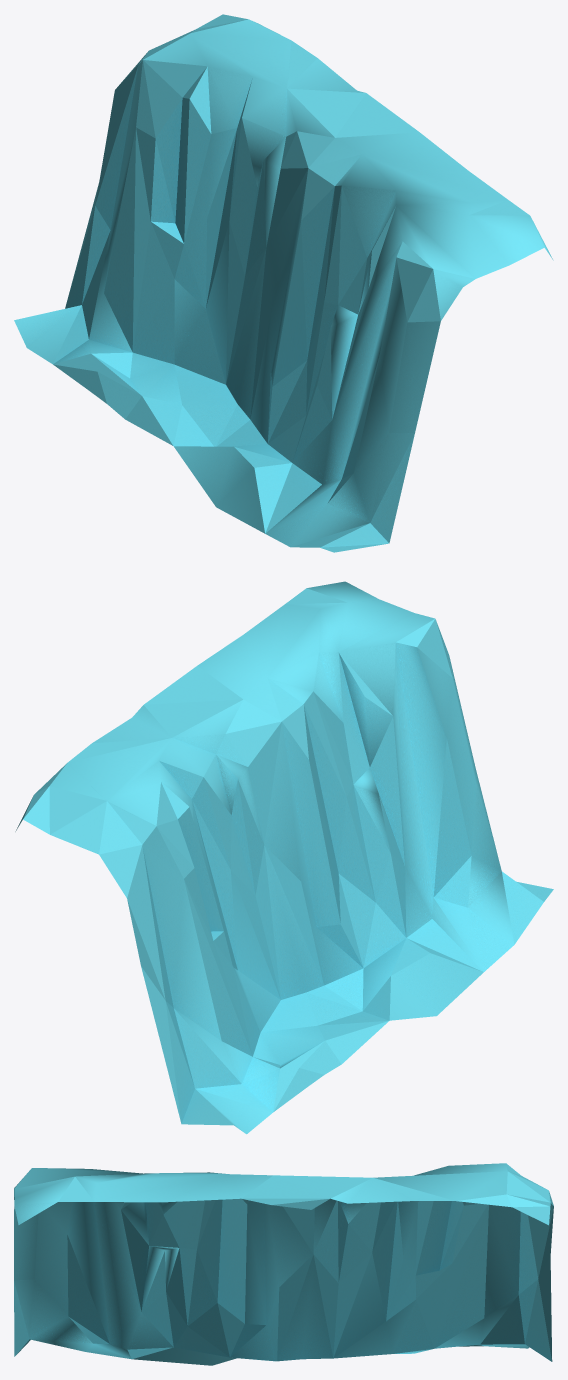
The model's file is Cliff_1.glb.
3 renders of one model, top to bottom at view 1: azimuth 30°, elevation 25°; view 2: azimuth 150°, elevation 25°; view 3: azimuth 270°, elevation 25°, orthographic. The views are drawn at different scales.
Visible parts, largest first — view 1: Cliff_1; view 2: Cliff_1; view 3: Cliff_1.
Part boxes in pixels (x1=…): Cliff_1: x1=14, y1=14, x2=553, y2=552; Cliff_1: x1=15, y1=581, x2=553, y2=1134; Cliff_1: x1=14, y1=1163, x2=553, y2=1365.
Bounding box in the file's own units: 16.46 × 21.66 × 40.96.
1 material, 1 textured.
